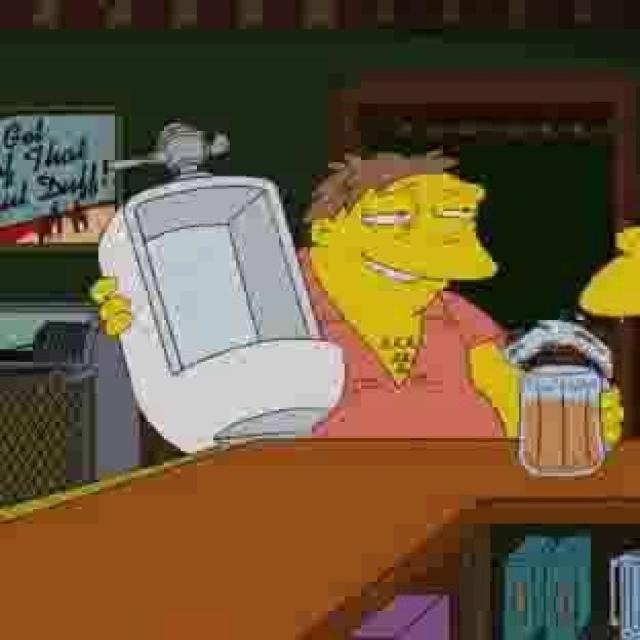Barney Gumble: (301, 152, 504, 314)
